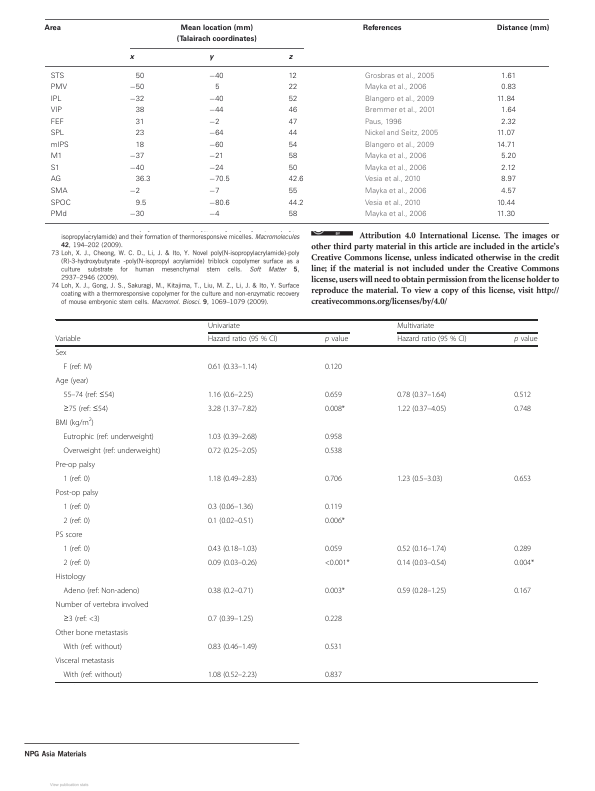borderless: (54, 318, 538, 682), (44, 18, 549, 223)
cell: (176, 24, 258, 44), (62, 446, 161, 456), (55, 600, 149, 610), (62, 432, 155, 442), (62, 586, 140, 596), (55, 628, 129, 638), (396, 335, 468, 345), (207, 335, 278, 345), (364, 129, 439, 138), (364, 107, 436, 116), (364, 72, 435, 81), (364, 95, 435, 104), (364, 141, 435, 150), (62, 642, 123, 652), (62, 670, 123, 680), (55, 656, 115, 666), (364, 164, 427, 173), (364, 187, 427, 196), (364, 210, 427, 219), (62, 390, 115, 400), (364, 176, 421, 185), (364, 199, 421, 208), (207, 362, 258, 372), (396, 390, 447, 400), (207, 404, 258, 414), (396, 404, 447, 414), (207, 432, 258, 442), (207, 446, 258, 456), (207, 474, 258, 484), (207, 544, 258, 554), (396, 544, 447, 554), (207, 558, 258, 568), (396, 558, 447, 568), (396, 586, 447, 596), (207, 642, 258, 652), (207, 670, 258, 680), (364, 84, 427, 92), (364, 153, 427, 161), (207, 390, 254, 400), (62, 404, 109, 414), (396, 474, 443, 484), (207, 502, 254, 512), (207, 516, 254, 526), (207, 586, 254, 596), (207, 614, 254, 624), (55, 417, 95, 428), (55, 488, 99, 498), (496, 24, 550, 32), (55, 460, 96, 470), (62, 614, 101, 624), (396, 322, 435, 331), (364, 118, 403, 127), (55, 376, 89, 386), (362, 24, 403, 32), (62, 362, 93, 372), (55, 572, 86, 582), (207, 322, 241, 331), (62, 474, 91, 484), (62, 502, 91, 512), (62, 516, 91, 526), (62, 544, 91, 554), (62, 558, 91, 568), (55, 530, 83, 540), (324, 558, 351, 568), (55, 335, 81, 345), (324, 335, 349, 345), (513, 335, 538, 345), (324, 404, 346, 414), (324, 516, 346, 526), (513, 558, 535, 568), (324, 586, 346, 596), (208, 176, 231, 185), (208, 199, 231, 208), (50, 199, 72, 208), (324, 362, 343, 372), (324, 390, 343, 400), (513, 390, 532, 400), (513, 404, 532, 414), (324, 432, 343, 442), (324, 446, 343, 456), (324, 474, 343, 484), (513, 474, 532, 484), (324, 502, 343, 512), (324, 544, 343, 554), (513, 544, 532, 554), (513, 586, 532, 596), (324, 614, 343, 624), (324, 642, 343, 652), (324, 670, 343, 680), (496, 95, 516, 104), (496, 129, 516, 138), (50, 141, 70, 150), (496, 141, 516, 150), (496, 199, 516, 208), (496, 210, 516, 219), (50, 187, 68, 196), (50, 210, 68, 219), (208, 72, 225, 81), (500, 72, 517, 81), (208, 95, 225, 104), (208, 107, 225, 116), (500, 107, 517, 116), (500, 118, 517, 127), (208, 129, 225, 138), (208, 141, 225, 150), (208, 153, 225, 162), (208, 164, 225, 173), (500, 176, 517, 185), (500, 187, 517, 196), (43, 24, 62, 32), (50, 84, 68, 92), (129, 95, 145, 104), (129, 153, 145, 162), (129, 164, 145, 173), (500, 164, 516, 173), (135, 176, 151, 185), (288, 176, 304, 185), (288, 199, 304, 208), (129, 210, 145, 219), (500, 84, 517, 92), (500, 153, 517, 161), (50, 72, 65, 81), (50, 118, 65, 127), (50, 129, 65, 138), (129, 84, 145, 92), (55, 348, 67, 358), (50, 95, 63, 104), (50, 107, 63, 116), (50, 153, 63, 162), (208, 118, 220, 127), (50, 176, 62, 185), (129, 187, 141, 196), (208, 187, 220, 196), (135, 199, 147, 208), (208, 210, 220, 219), (135, 72, 145, 81), (288, 72, 298, 81), (288, 95, 298, 104), (135, 107, 145, 116), (288, 107, 298, 116), (135, 118, 145, 127), (288, 118, 298, 127), (135, 129, 145, 138), (288, 129, 298, 138), (135, 141, 145, 150), (288, 141, 298, 150), (288, 153, 298, 162), (50, 164, 60, 173), (288, 164, 298, 173), (288, 187, 298, 196), (288, 210, 298, 219), (288, 84, 298, 92), (214, 84, 220, 92), (129, 55, 135, 62), (208, 55, 214, 62), (288, 55, 293, 62)
